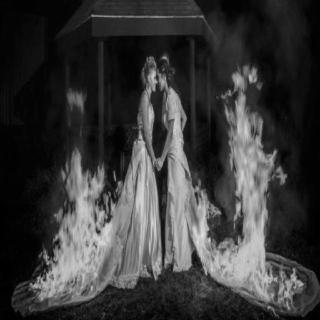Fire: (188, 48, 306, 316), (67, 82, 87, 124)
